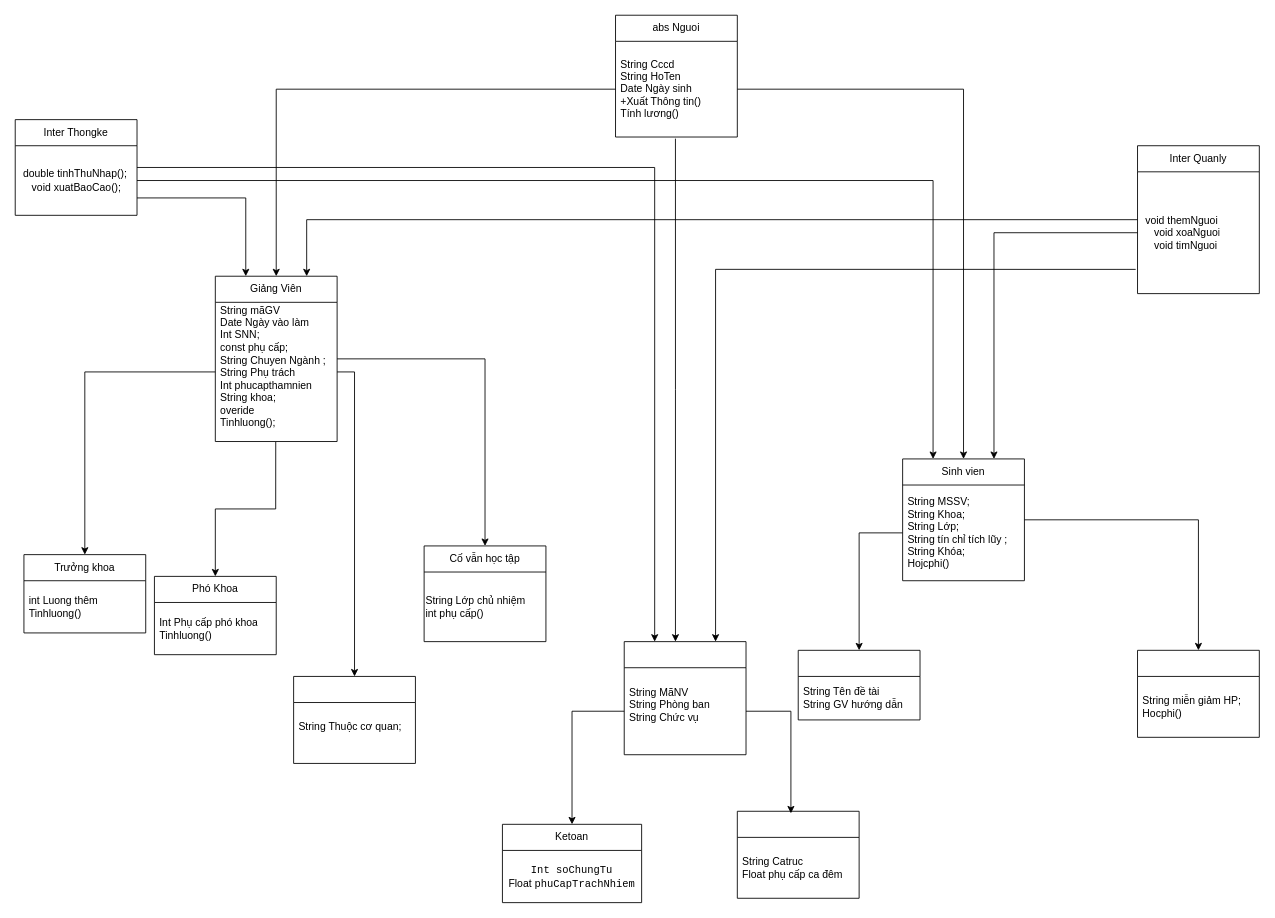
Image size: 1275x918. Some labels were removed from this diagram. Here are the shapes that lost their labels. From the top down, the box of each, then its label:
(623, 641, 746, 755): NhanvienHC
(797, 649, 920, 720): SinhVienCaohoc
(1137, 649, 1259, 737): Sinh vien đặc biệt
(293, 676, 415, 763): GV thinhgiang
(736, 810, 859, 898): Baove
